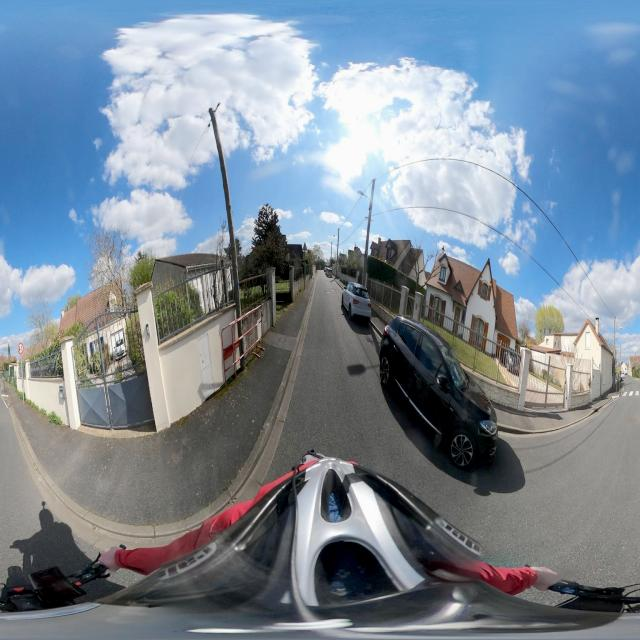car: (378, 312, 499, 470), (342, 282, 373, 327), (325, 261, 334, 278)
